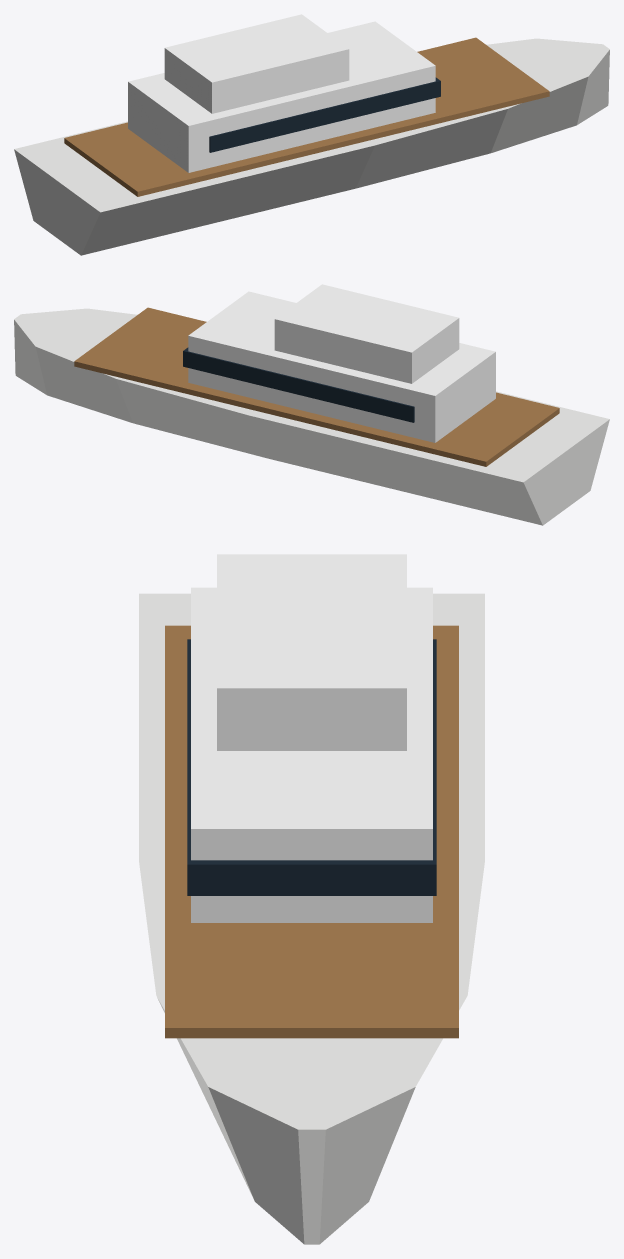
File: yacht.glb
3 renders of one model, top to bottom at view 1: azimuth 30°, elevation 25°; view 2: azimuth 150°, elevation 25°; view 3: azimuth 270°, elevation 25°, orthographic. The views are drawn at different scales.
Parts seen in each view (by area): view 1: yacht; view 2: yacht; view 3: yacht.
Boxes of the visible parts, x1,y1,x2,y2 form: yacht: [14, 14, 609, 255]; yacht: [14, 284, 609, 525]; yacht: [139, 554, 484, 1244].
Bounding box in the file's own units: 22 × 5.4 × 6.
